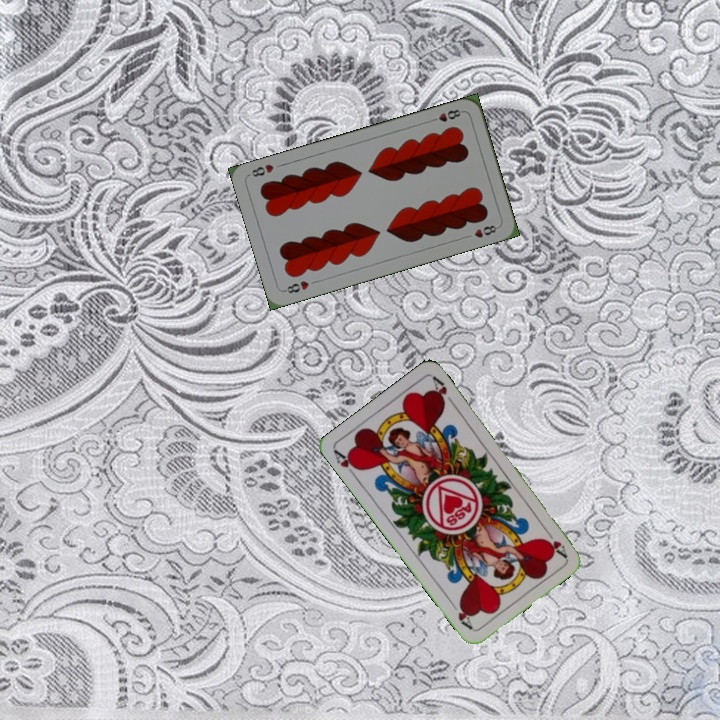H8: (426, 105, 466, 125), (280, 276, 312, 296)
HA: (330, 446, 362, 481), (540, 524, 569, 560)
